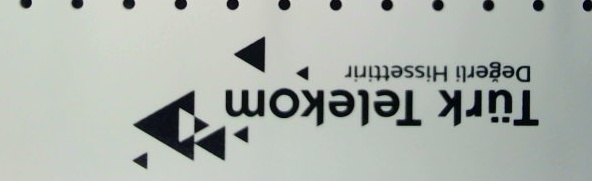AQ_TURKTelekom: (111, 37, 541, 173)
